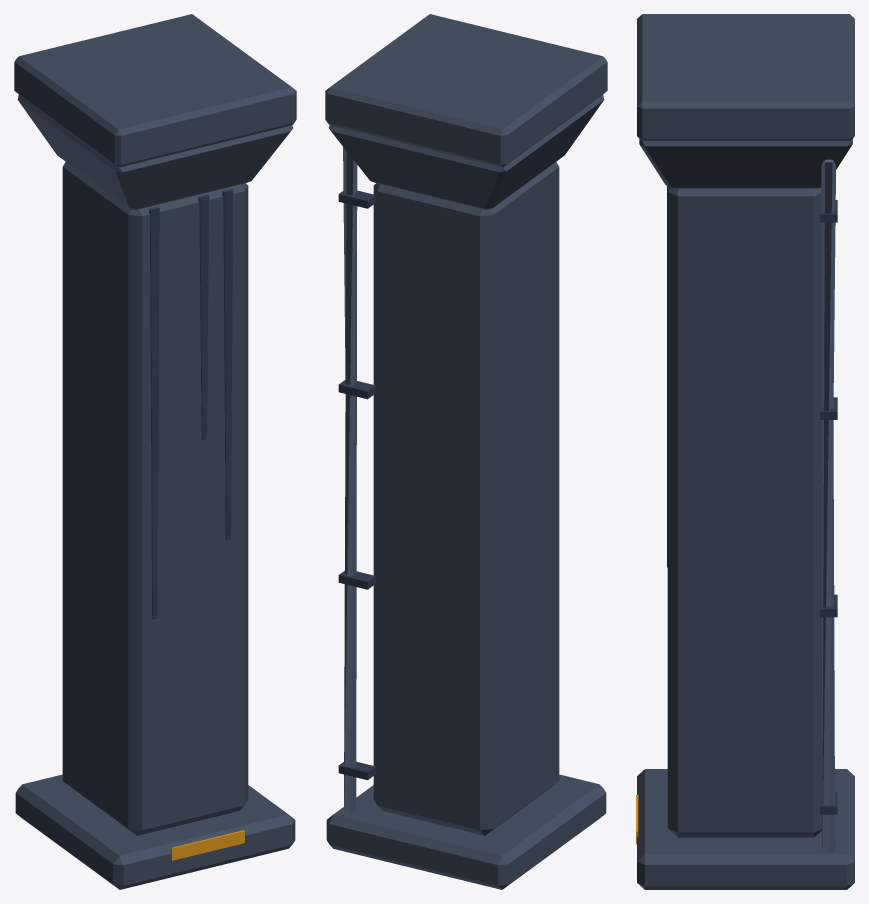
File: city_overpass_pillar.glb
The picture shows the model from 3 angles, left to right: view 1: azimuth 30°, elevation 25°; view 2: azimuth 150°, elevation 25°; view 3: azimuth 270°, elevation 25°; orthographic projection. The views are drawn at different scales.
Parts seen in each view (by area): view 1: shaft, cap, footing, capital, runoff_facet, runoff_facet.002, runoff_facet.001, foot_marker; view 2: shaft, cap, footing, capital, drainpipe; view 3: shaft, cap, footing, capital, drainpipe.
Boxes of the visible parts, bbox=[...] form: shaft: bbox=[62, 162, 248, 835]; cap: bbox=[14, 14, 296, 167]; footing: bbox=[15, 774, 295, 889]; capital: bbox=[17, 94, 292, 209]; runoff_facet: bbox=[149, 206, 159, 619]; runoff_facet.002: bbox=[222, 188, 233, 540]; runoff_facet.001: bbox=[198, 194, 209, 439]; foot_marker: bbox=[171, 830, 244, 860]; shaft: bbox=[373, 162, 559, 835]; cap: bbox=[325, 14, 607, 167]; footing: bbox=[326, 774, 606, 889]; capital: bbox=[329, 94, 604, 209]; drainpipe: bbox=[343, 147, 357, 812]; shaft: bbox=[667, 186, 822, 837]; cap: bbox=[637, 14, 854, 140]; footing: bbox=[637, 769, 854, 889]; capital: bbox=[639, 138, 852, 188]; drainpipe: bbox=[821, 159, 835, 853].
Bounding box in the file's own units: 2.5 × 10 × 2.51.
